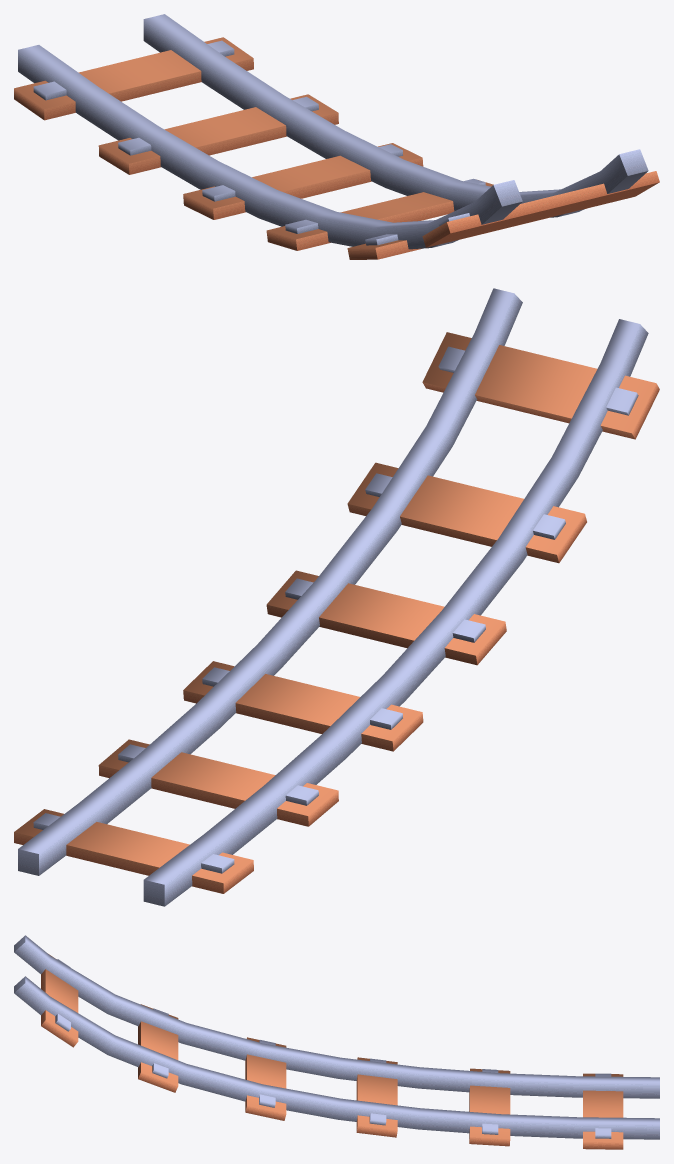
The model's file is railroad_straight_hill_beginning.glb.
3 renders of one model, top to bottom at view 1: azimuth 30°, elevation 25°; view 2: azimuth 150°, elevation 25°; view 3: azimuth 270°, elevation 25°, orthographic. The views are drawn at different scales.
Parts seen in each view (by area): view 1: railroad-straight-hill-beginning; view 2: railroad-straight-hill-beginning; view 3: railroad-straight-hill-beginning.
Part boxes in pixels (x1=…): railroad-straight-hill-beginning: x1=14, y1=14, x2=659, y2=259; railroad-straight-hill-beginning: x1=14, y1=288, x2=659, y2=906; railroad-straight-hill-beginning: x1=14, y1=935, x2=659, y2=1149.
Size of the model in its own units: 1 by 1.07 by 4.
1 material, 1 textured.
